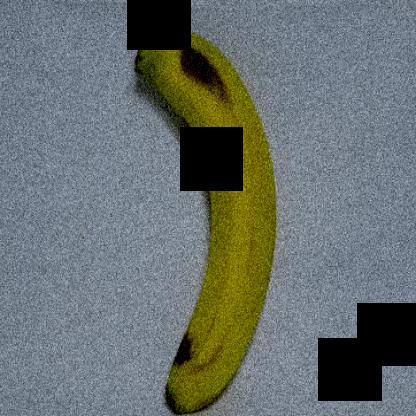freshripe: (120, 14, 290, 415)
